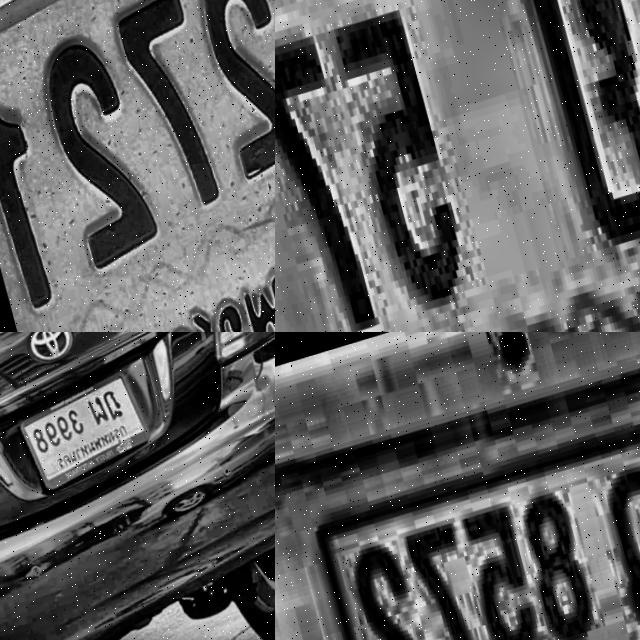license-plate: (275, 0, 640, 332), (0, 0, 275, 332), (309, 397, 640, 640), (11, 362, 158, 507)
